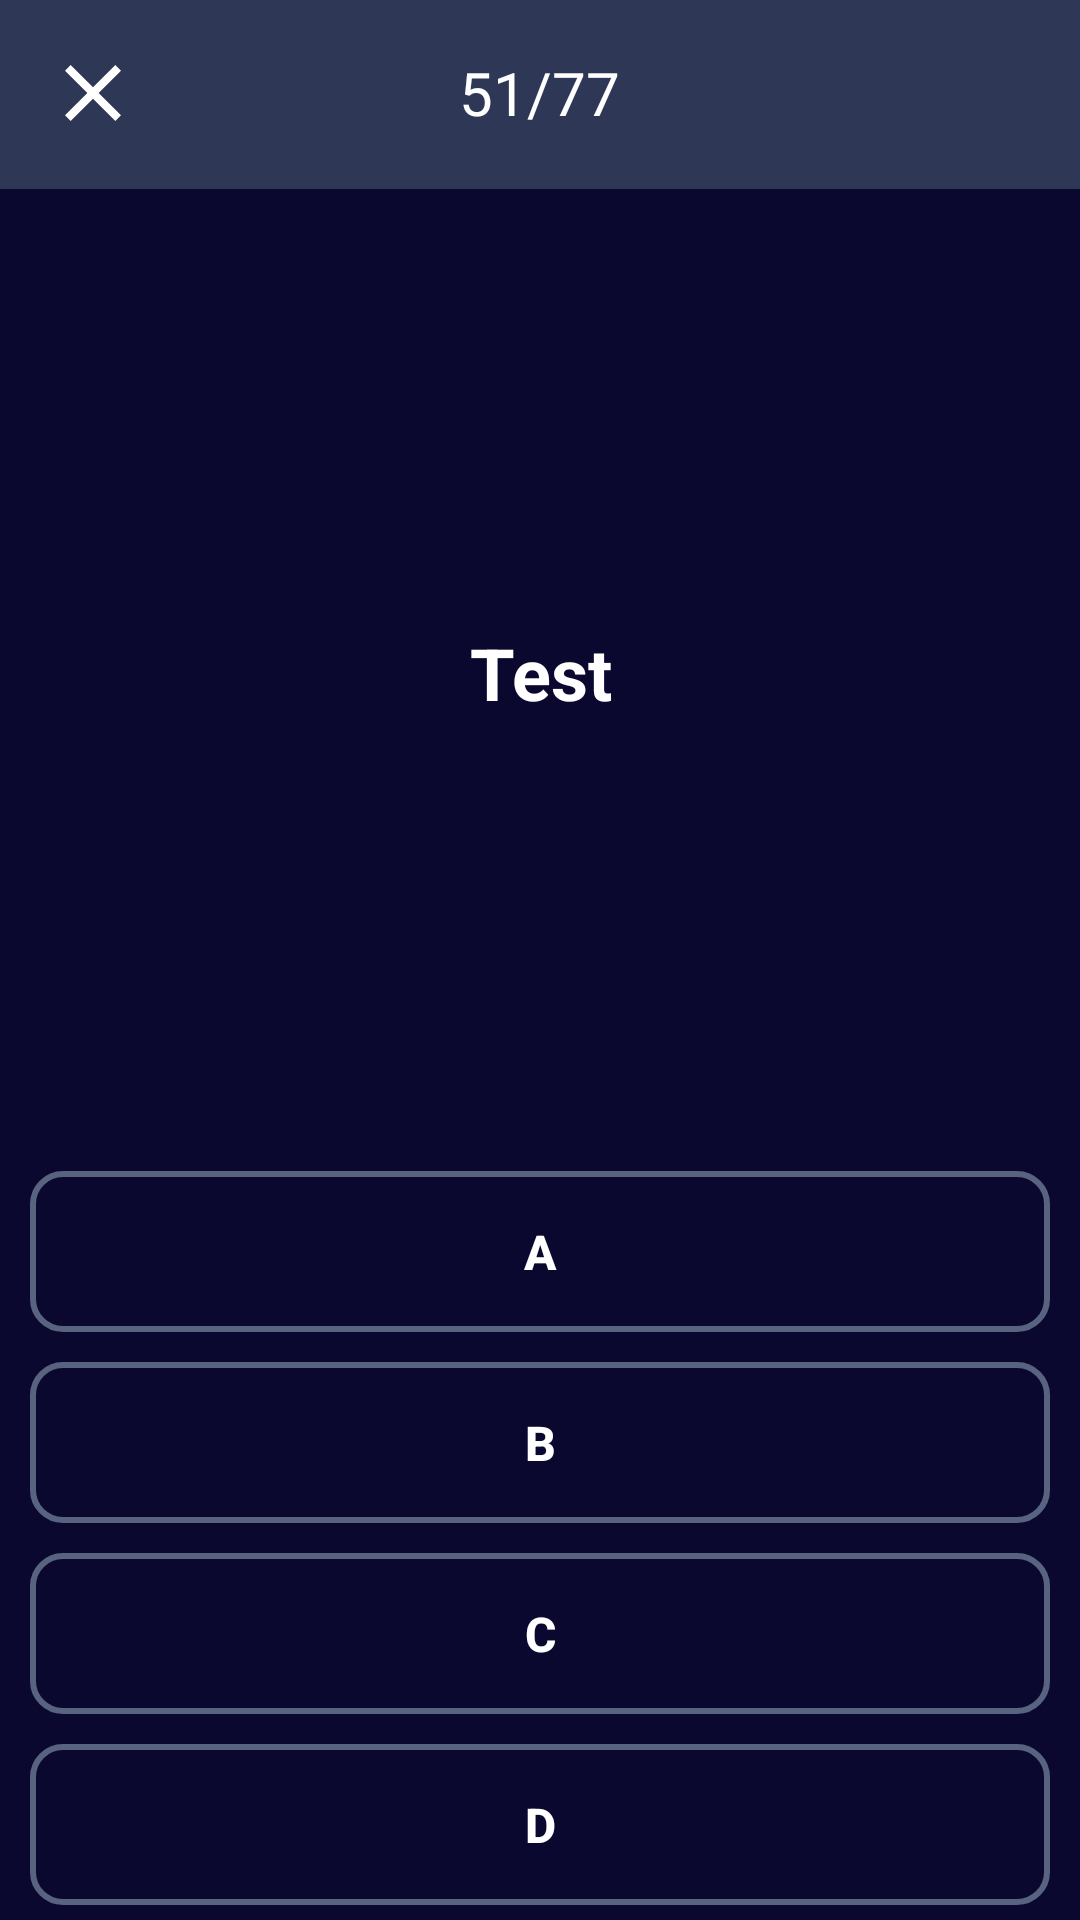

Locate icon controls on the screen. Image size 1080 x 1920, boxes as BBox(x1, y1, x2, y2).
clear: BBox(65, 65, 121, 121)
